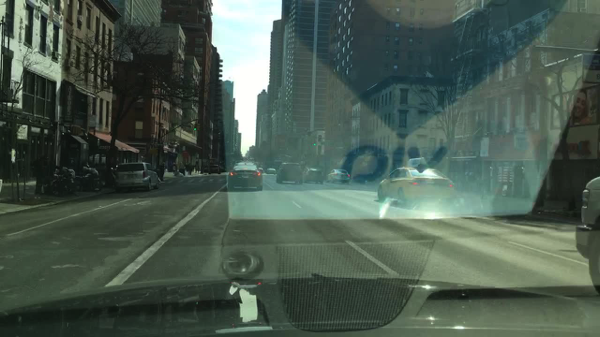car: (377, 158, 455, 210), (575, 174, 598, 295), (112, 163, 160, 193), (228, 164, 264, 192), (275, 163, 302, 185), (325, 169, 350, 184), (303, 169, 323, 185), (209, 164, 220, 175), (266, 169, 275, 175), (217, 167, 225, 172), (258, 167, 263, 174), (200, 163, 202, 174), (250, 159, 253, 163), (241, 161, 247, 163)
person: (32, 156, 48, 194), (48, 162, 57, 192), (160, 163, 165, 179), (193, 162, 198, 176), (173, 162, 176, 175), (183, 162, 186, 174), (189, 164, 192, 174)
traffic light: (311, 142, 317, 146)
